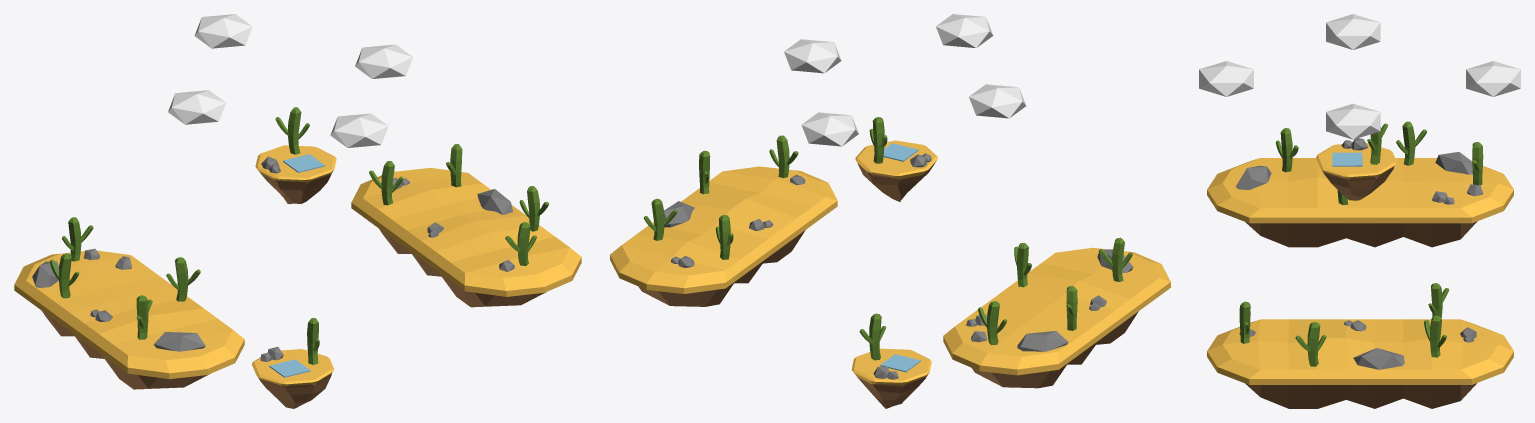
File: desertedsands.obj
3 views of the same model, side by side, from view 1: azimuth 30°, elevation 25°; view 2: azimuth 150°, elevation 25°; view 3: azimuth 270°, elevation 25° (orthographic).
Bounding box in the file's own units: 159 × 115 × 99.28.
